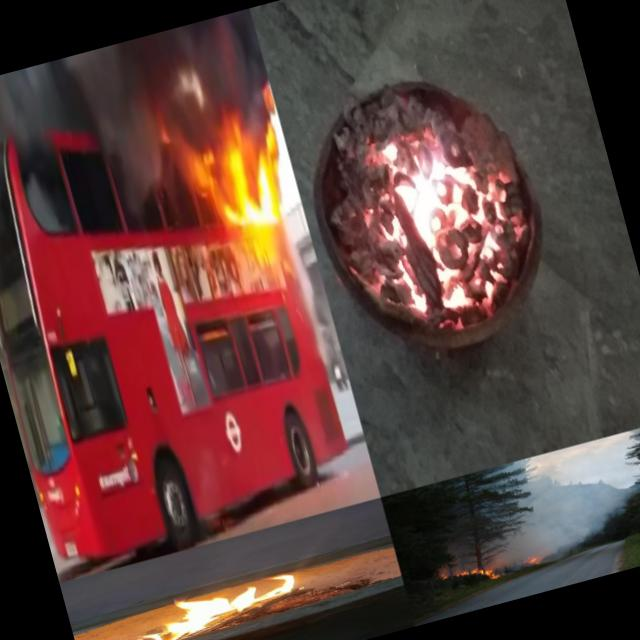fire: (338, 98, 549, 342), (106, 563, 310, 640), (192, 111, 298, 232), (436, 564, 482, 582), (482, 562, 501, 581), (522, 553, 538, 565)
smoke: (0, 30, 206, 248), (499, 463, 640, 557)
